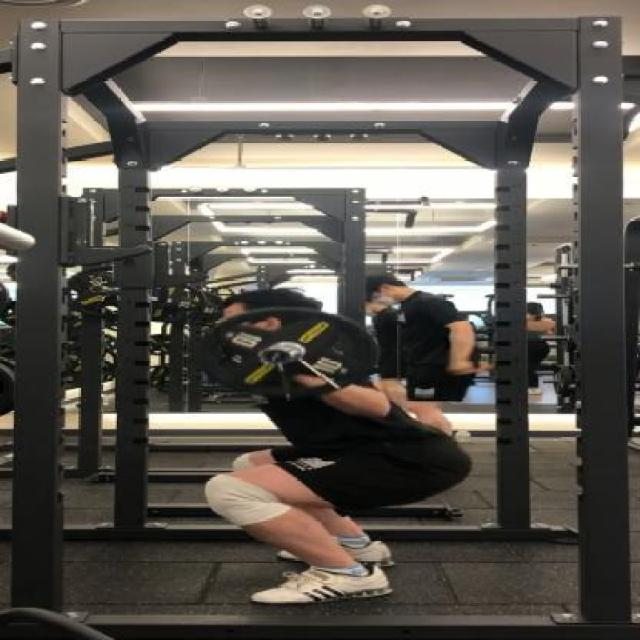barbell: (203, 302, 384, 408)
